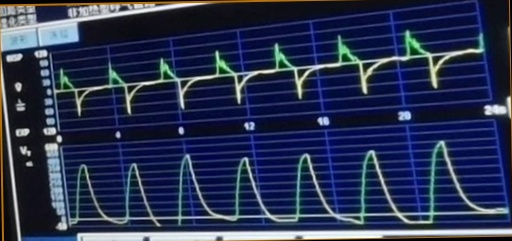Accumulation Flow: (58, 31, 480, 117)
Volume: (68, 138, 500, 229)
